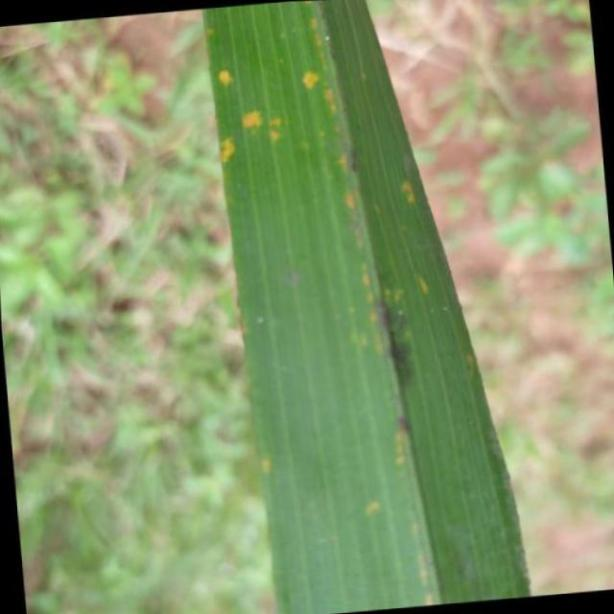Kalium: (201, 0, 532, 612)
